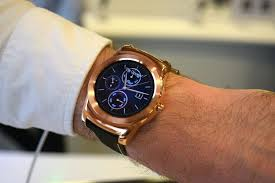clock: (94, 58, 157, 118)
